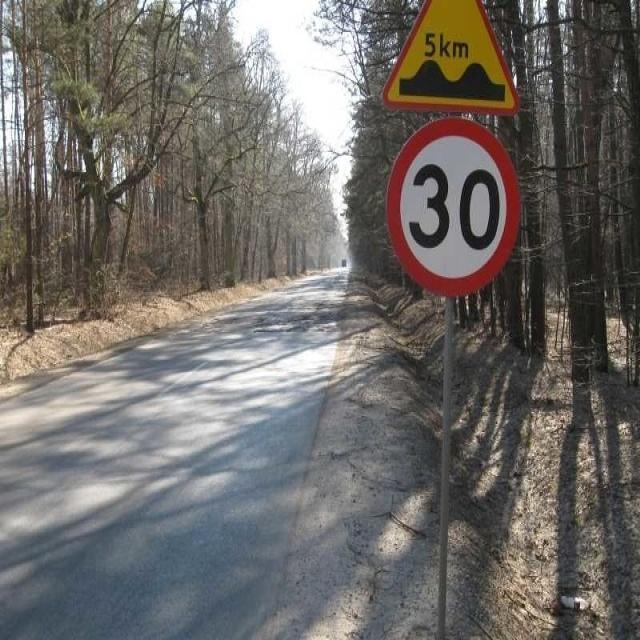Speed Limit -30-: (408, 163, 501, 252)
